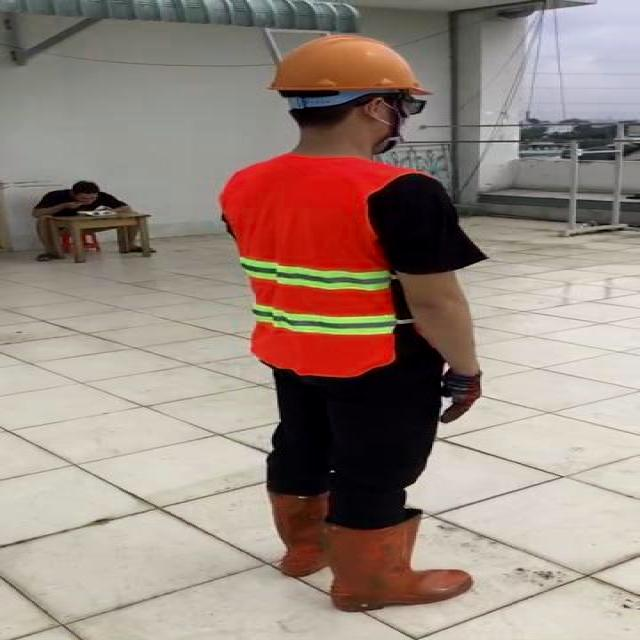boots: (327, 514, 475, 610), (263, 488, 327, 577)
hand_glove: (437, 370, 482, 426)
head_helmet: (262, 30, 430, 104)
person: (222, 27, 508, 618)
vest: (224, 154, 407, 376)
